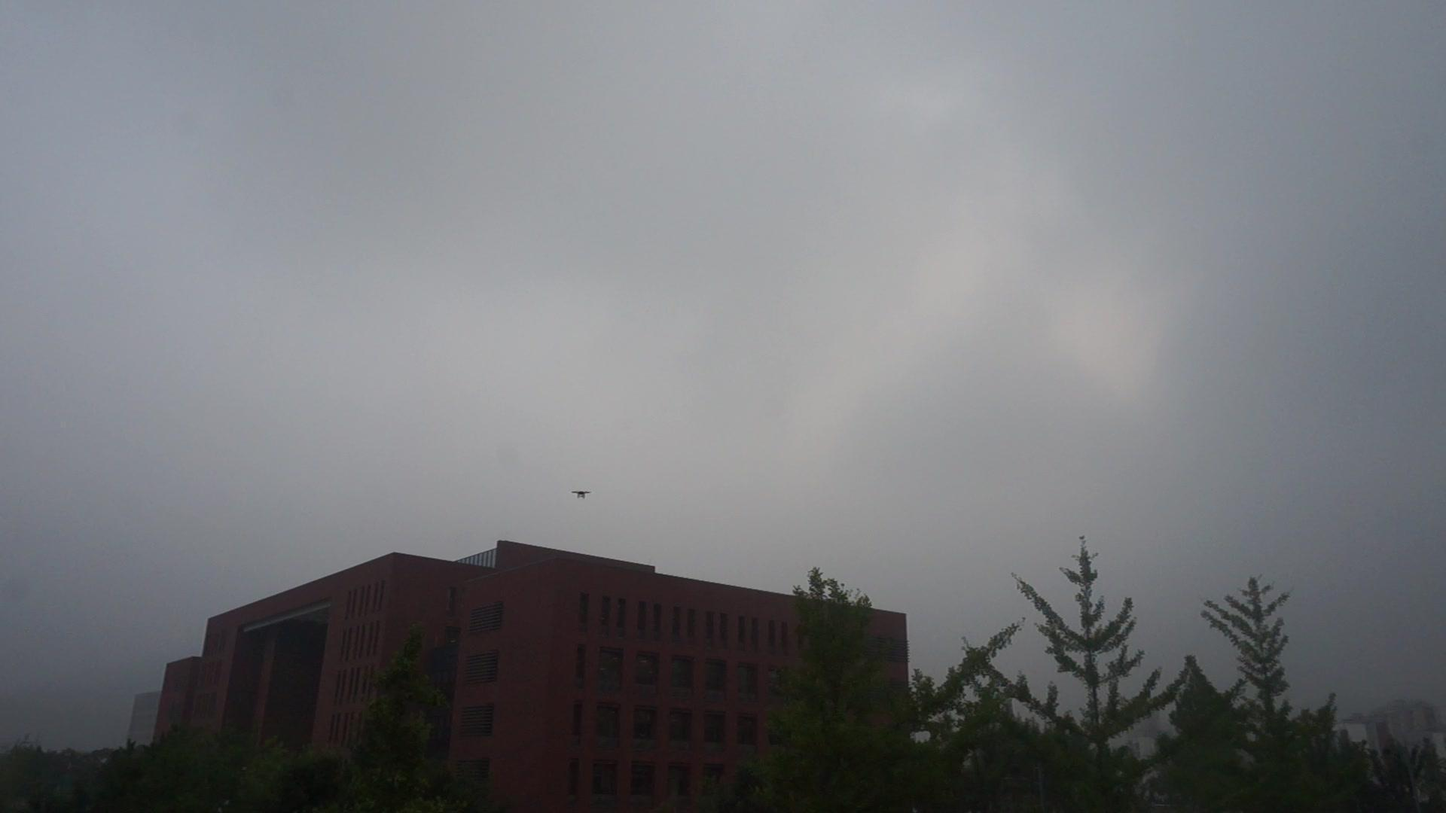UAV: (572, 491, 593, 499)
